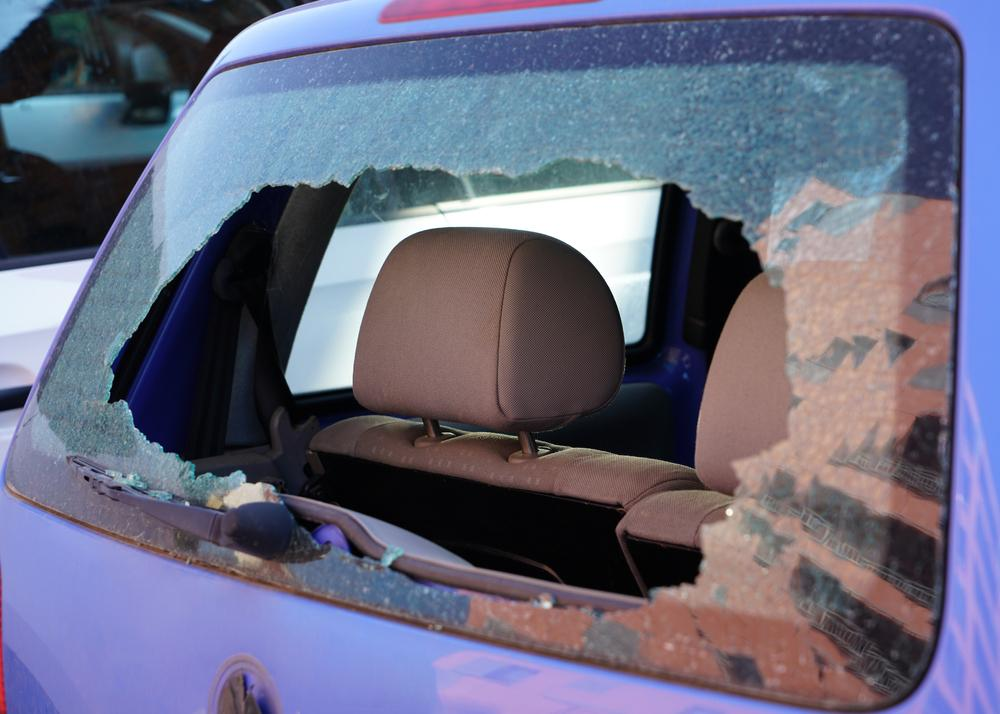glass shatter: (8, 12, 962, 711)
